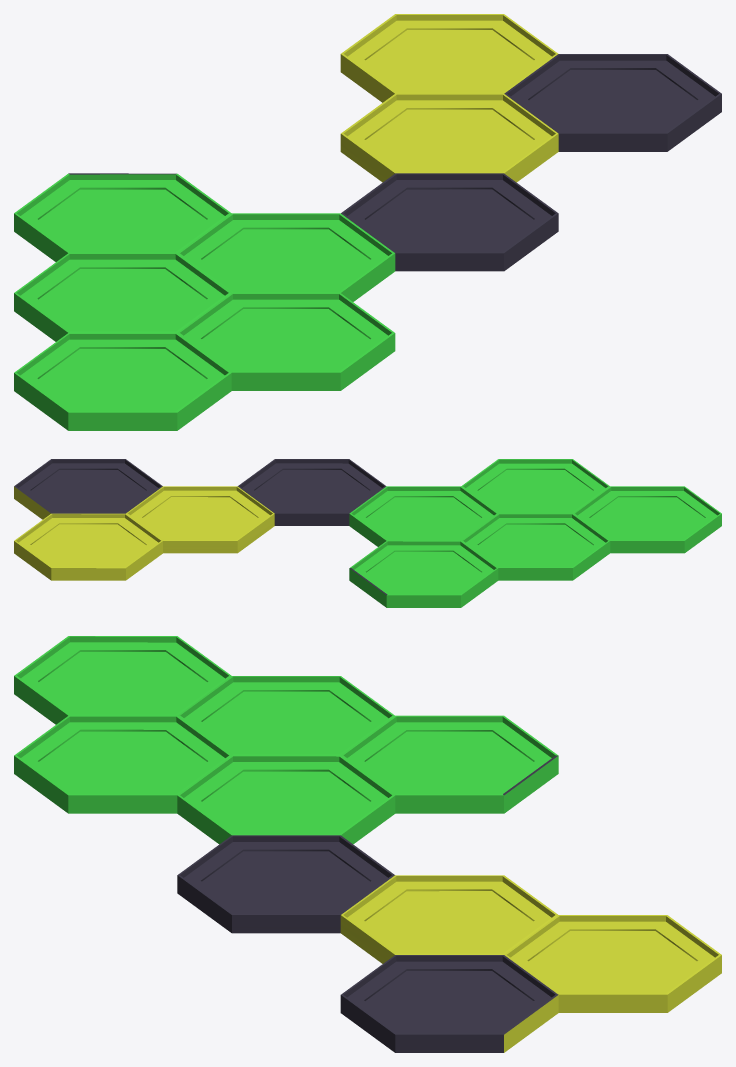
File: MoldInsertStage1_4.fbx
3 renders of one model, top to bottom at view 1: azimuth 30°, elevation 25°; view 2: azimuth 150°, elevation 25°; view 3: azimuth 270°, elevation 25°, orthographic. The views are drawn at different scales.
Parts seen in each view (by area): view 1: MoldInsertStage1_4; view 2: MoldInsertStage1_4; view 3: MoldInsertStage1_4.
Part boxes in pixels (x1,y1,x2,y2): MoldInsertStage1_4: (14,14,721,430); MoldInsertStage1_4: (14,459,721,607); MoldInsertStage1_4: (14,636,721,1052).
Bounding box in the file's own units: 910 × 19.68 × 683.
